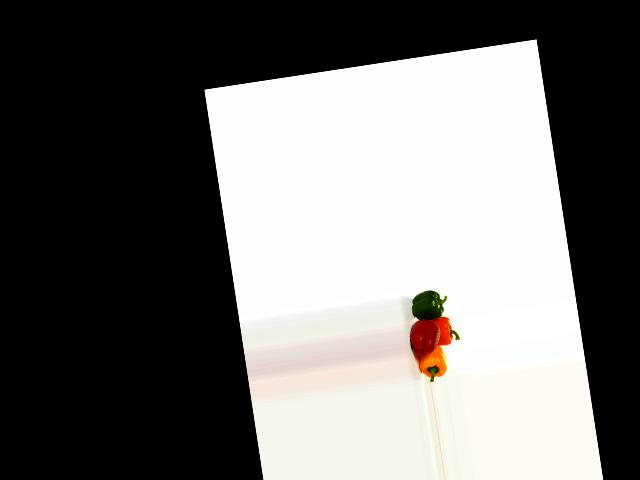bell_pepper: (404, 288, 448, 324)
